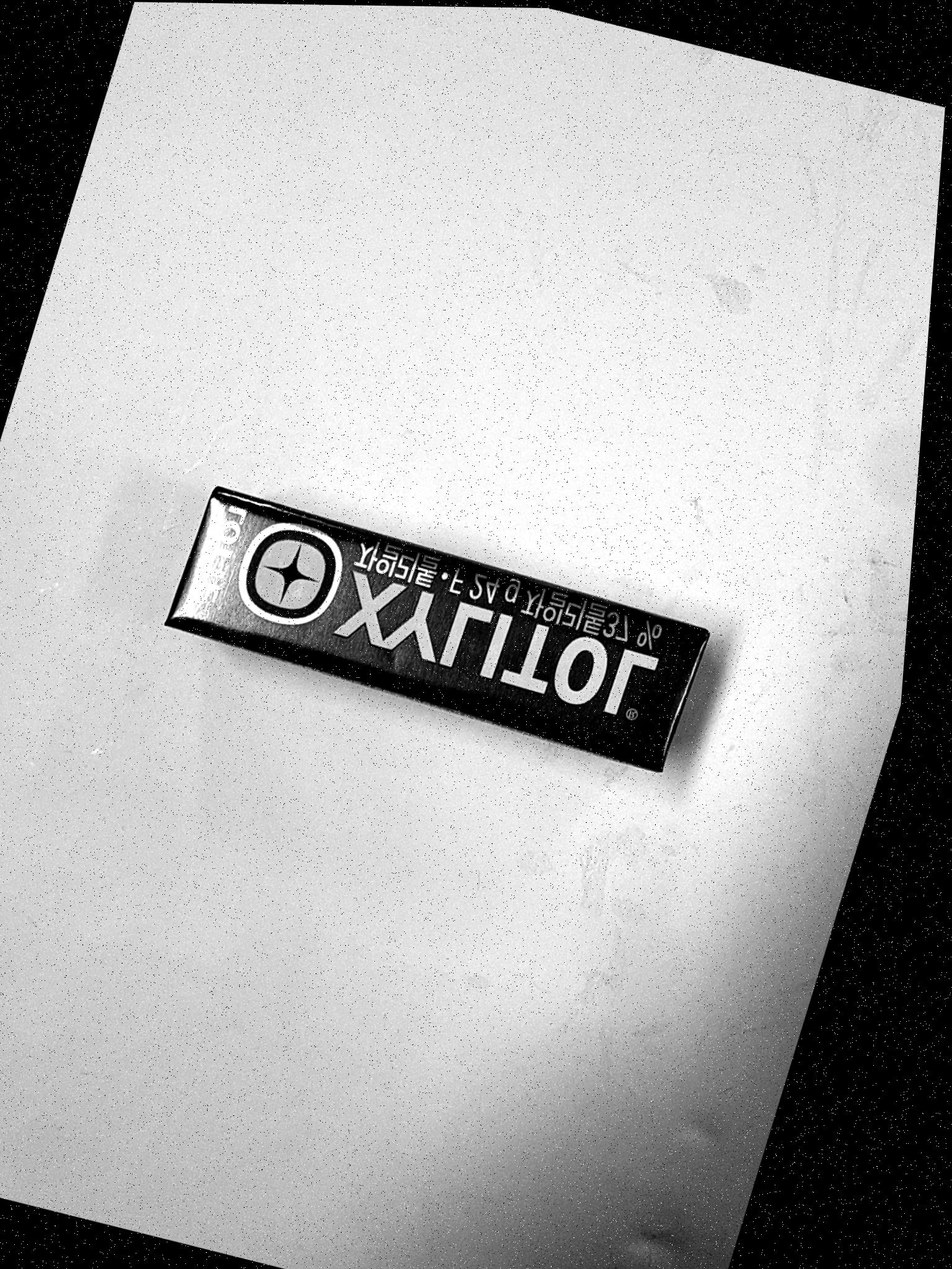gum_green: (167, 487, 705, 769)
